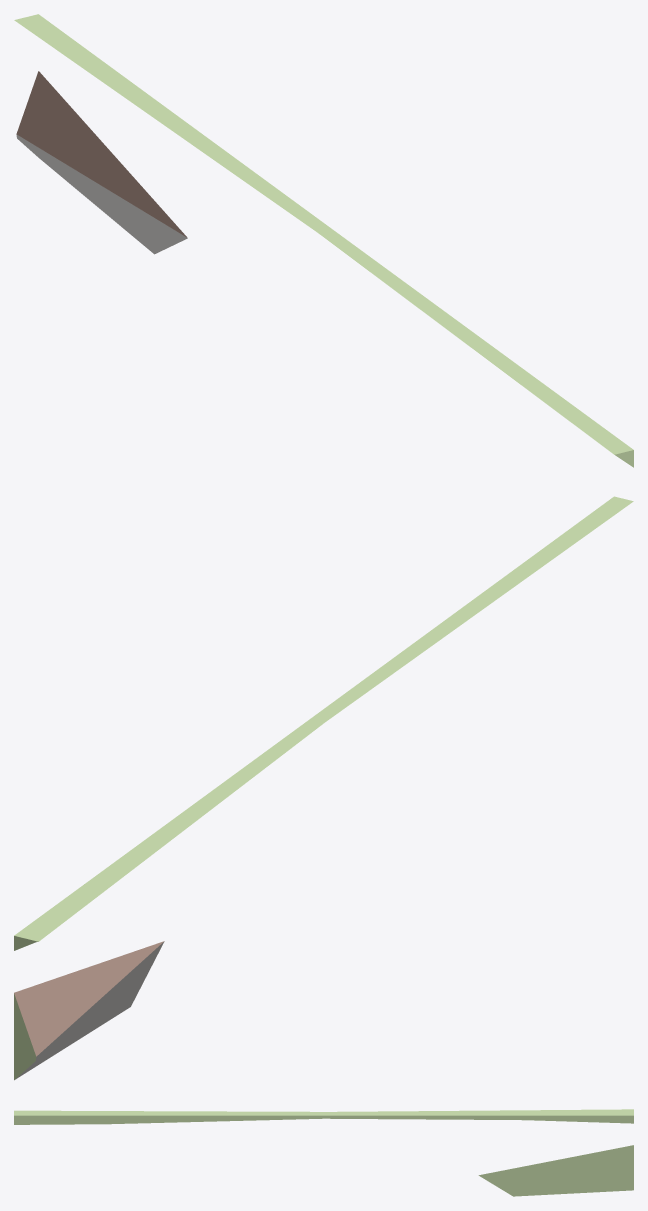
The model's file is chunk_-2_0.glb.
3 renders of one model, top to bottom at view 1: azimuth 30°, elevation 25°; view 2: azimuth 150°, elevation 25°; view 3: azimuth 270°, elevation 25°, orthographic. The views are drawn at different scales.
Visible parts, largest first — view 1: chunk_-2_0_0; view 2: chunk_-2_0_0; view 3: chunk_-2_0_0.
Part boxes in pixels (bbox=[...]): chunk_-2_0_0: bbox=[14, 14, 633, 467]; chunk_-2_0_0: bbox=[14, 496, 633, 1080]; chunk_-2_0_0: bbox=[14, 1109, 633, 1196].
Size of the model in its own units: 0.7628 by 4.61 by 32.
